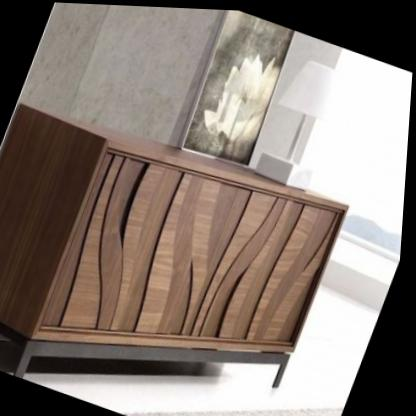Sideboard: (0, 102, 353, 386)
